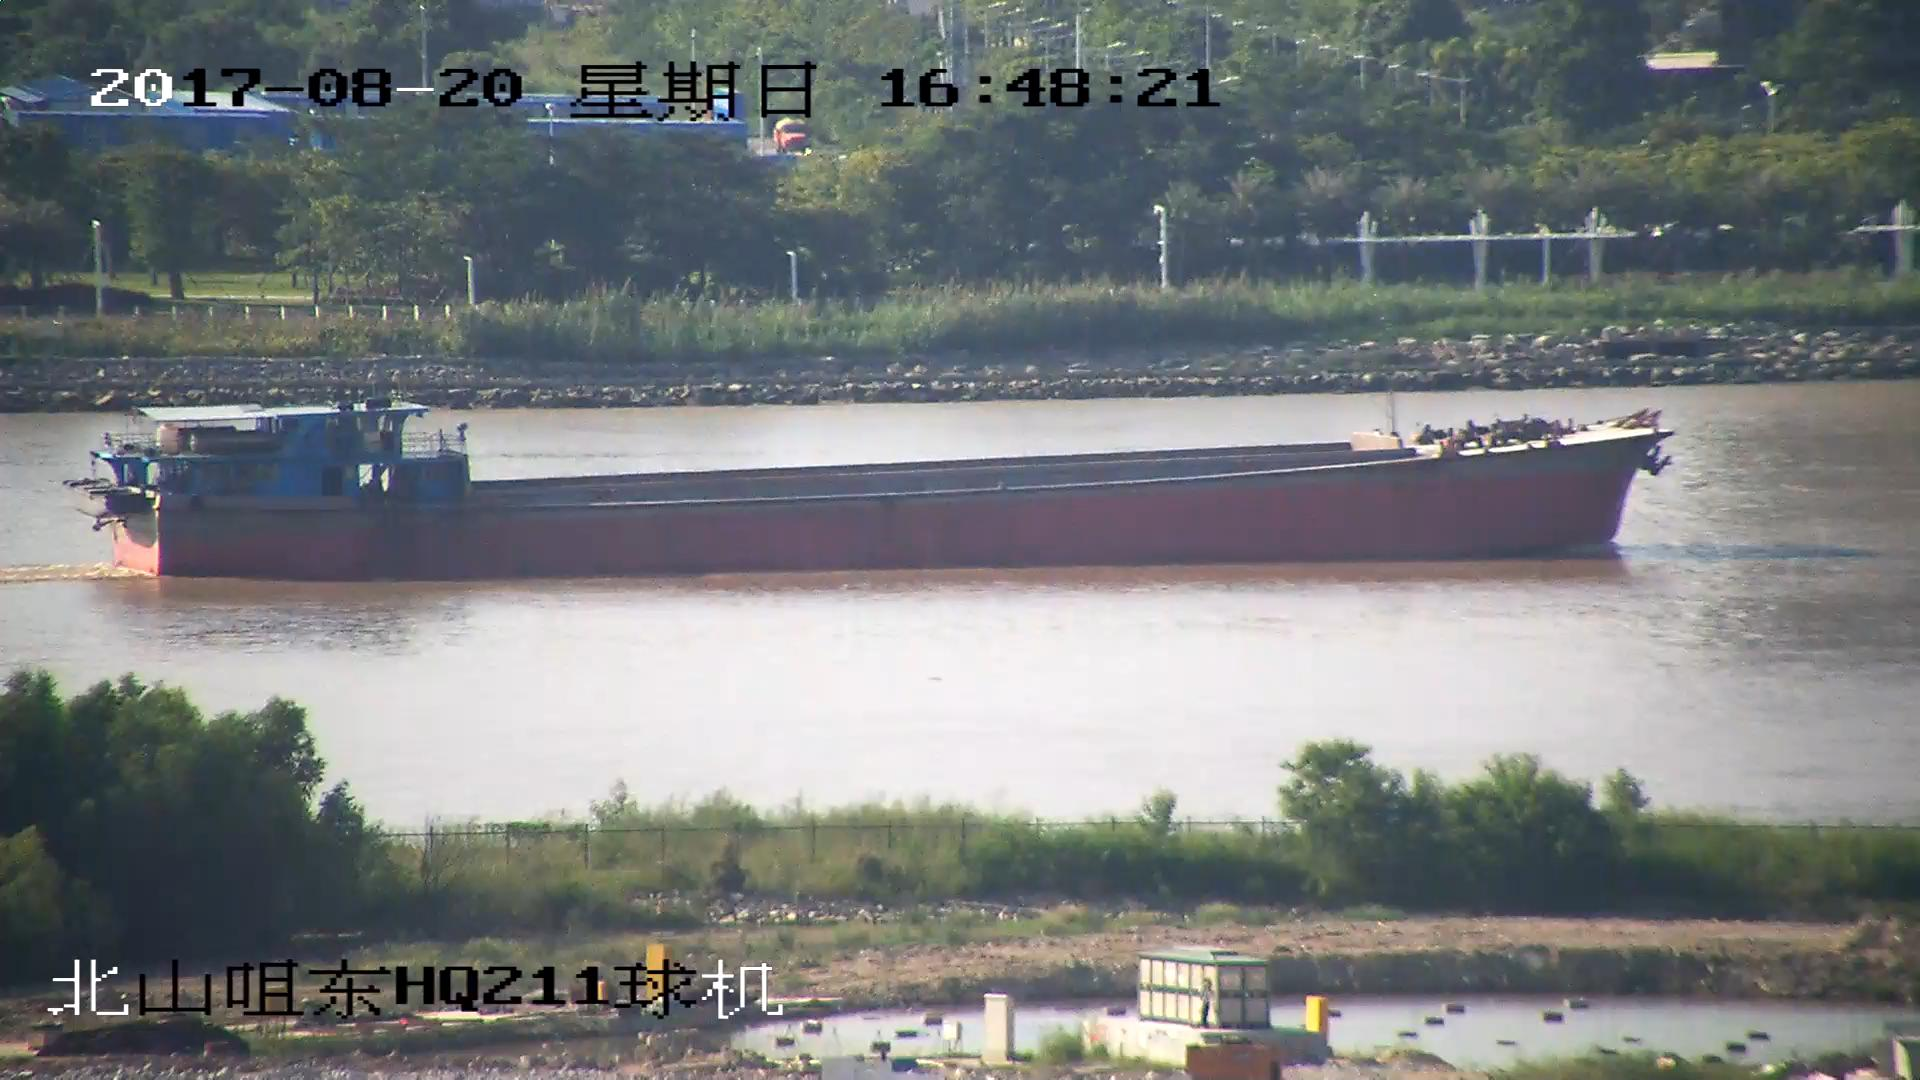bulk cargo carrier: (80, 391, 1674, 583)
